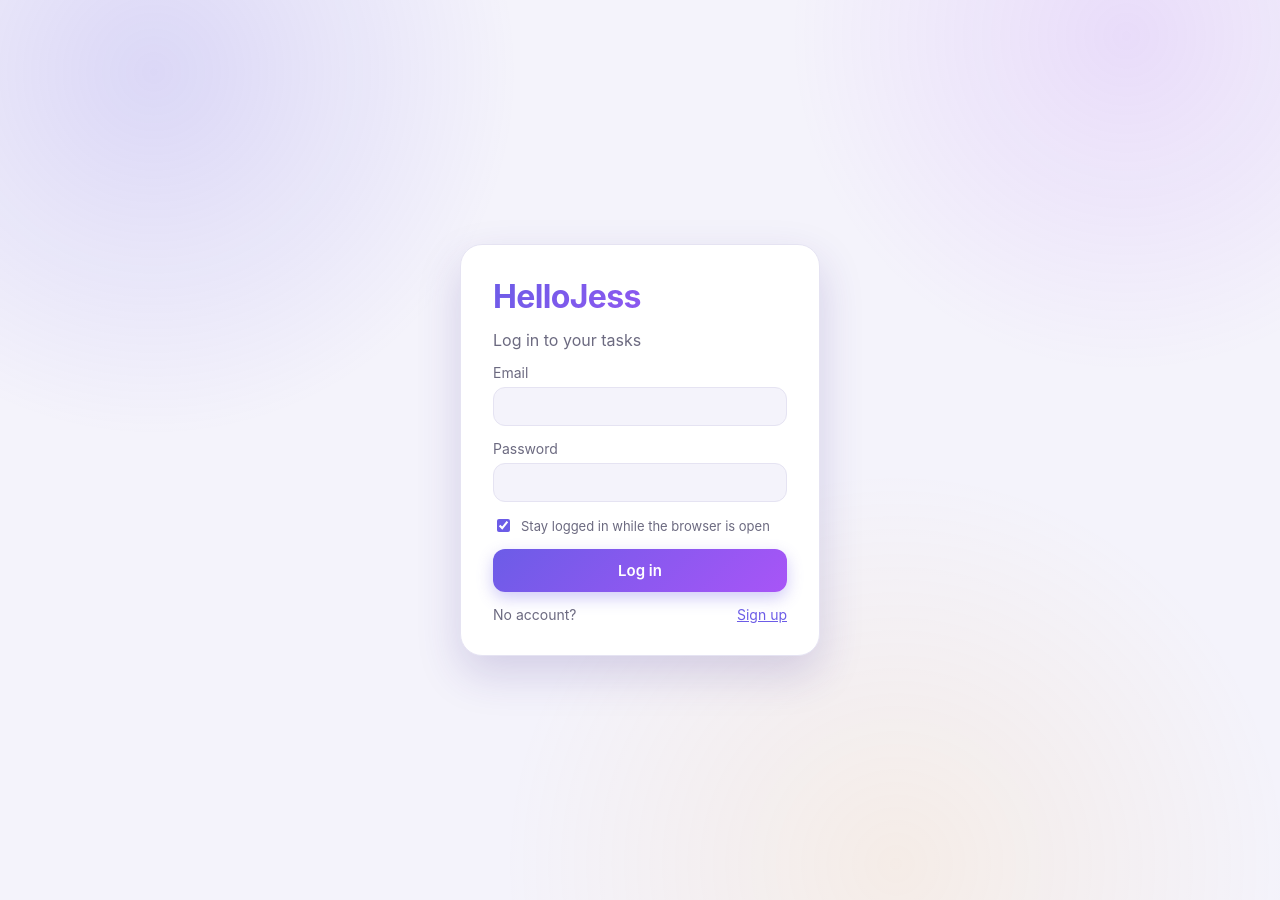
Scenario: Login › only accepts digits and needs all six before the button is enabled
Type "ada@example.com" into the field labelled "Email".
click(640, 406); type("ada@example.com")  # box [493, 387, 787, 426]
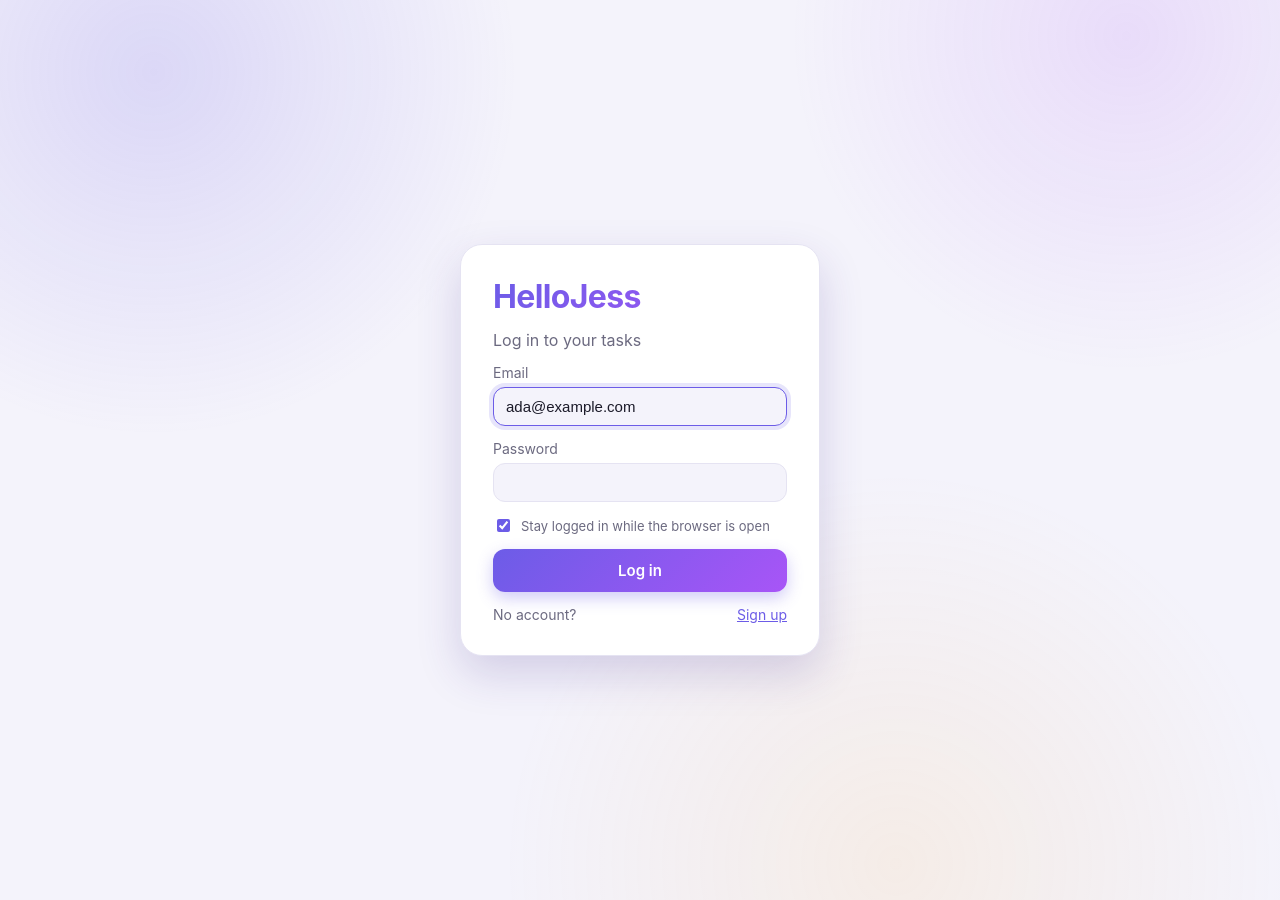
Type "secret-pw" into the password field labelled "Password".
click(640, 482); type("secret-pw")  # box [493, 463, 787, 502]
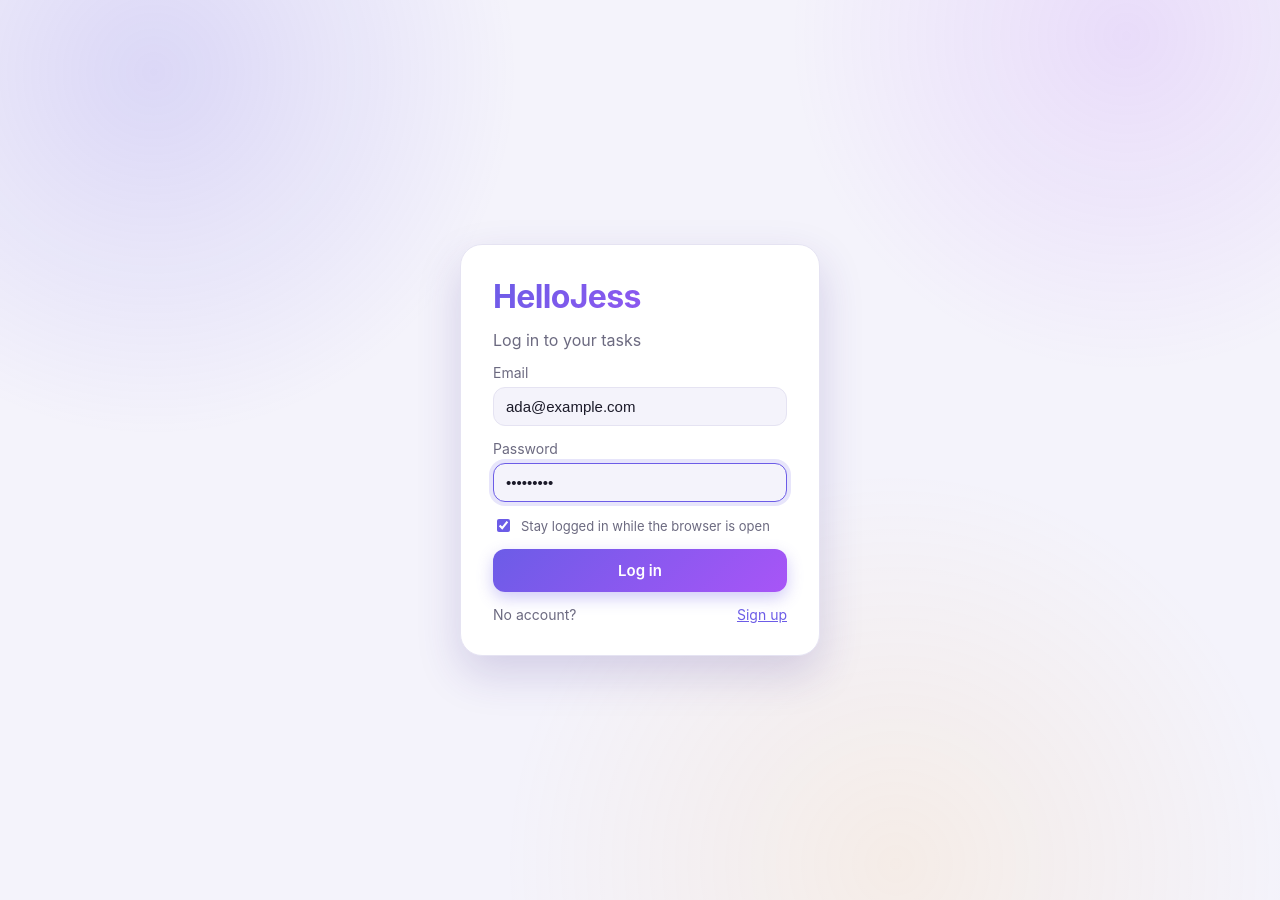
Click the button "Log in".
click(640, 570)  # box [493, 549, 787, 592]
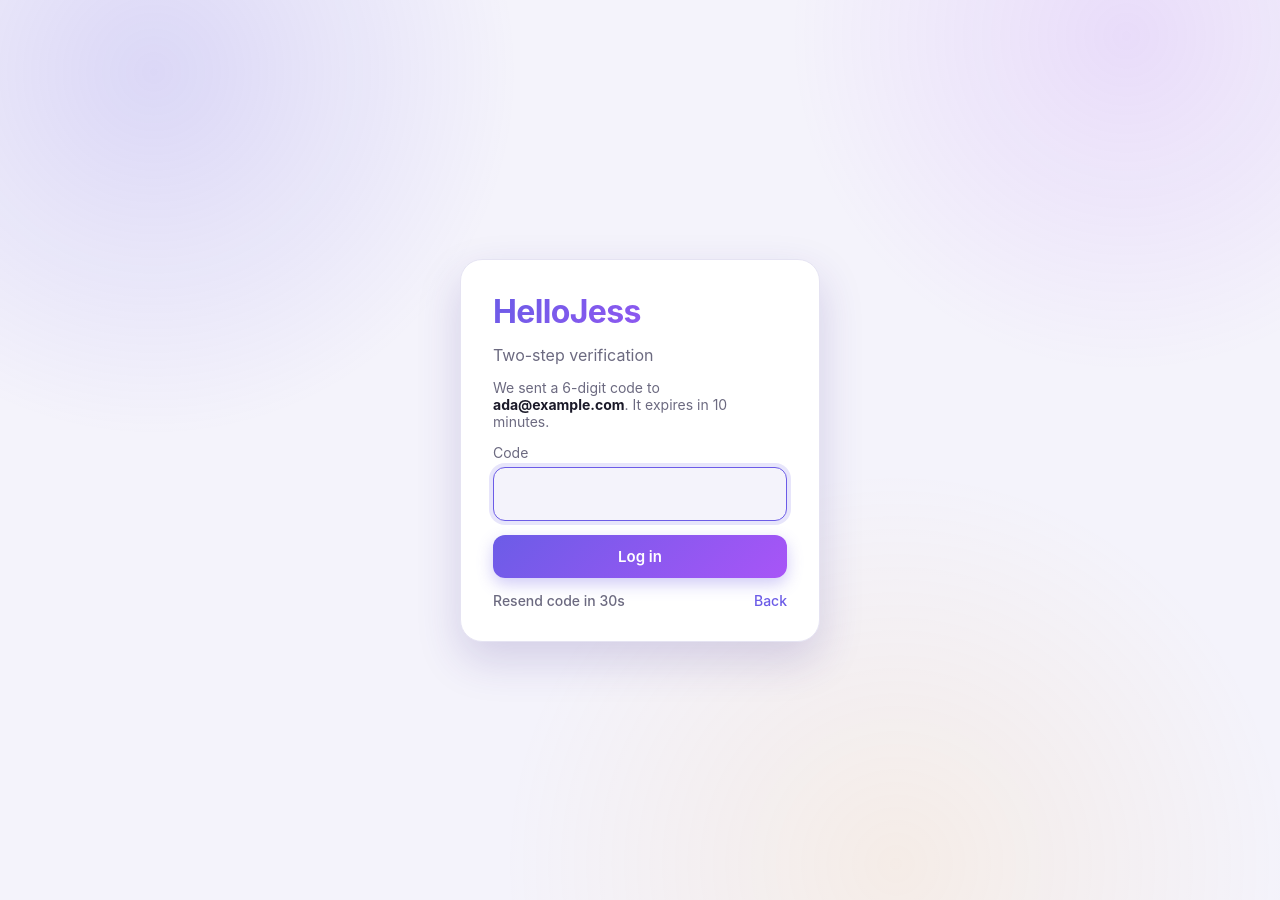
Type "12ab34" into the field labelled "Code".
click(640, 494); type("12ab34")  # box [493, 466, 787, 520]
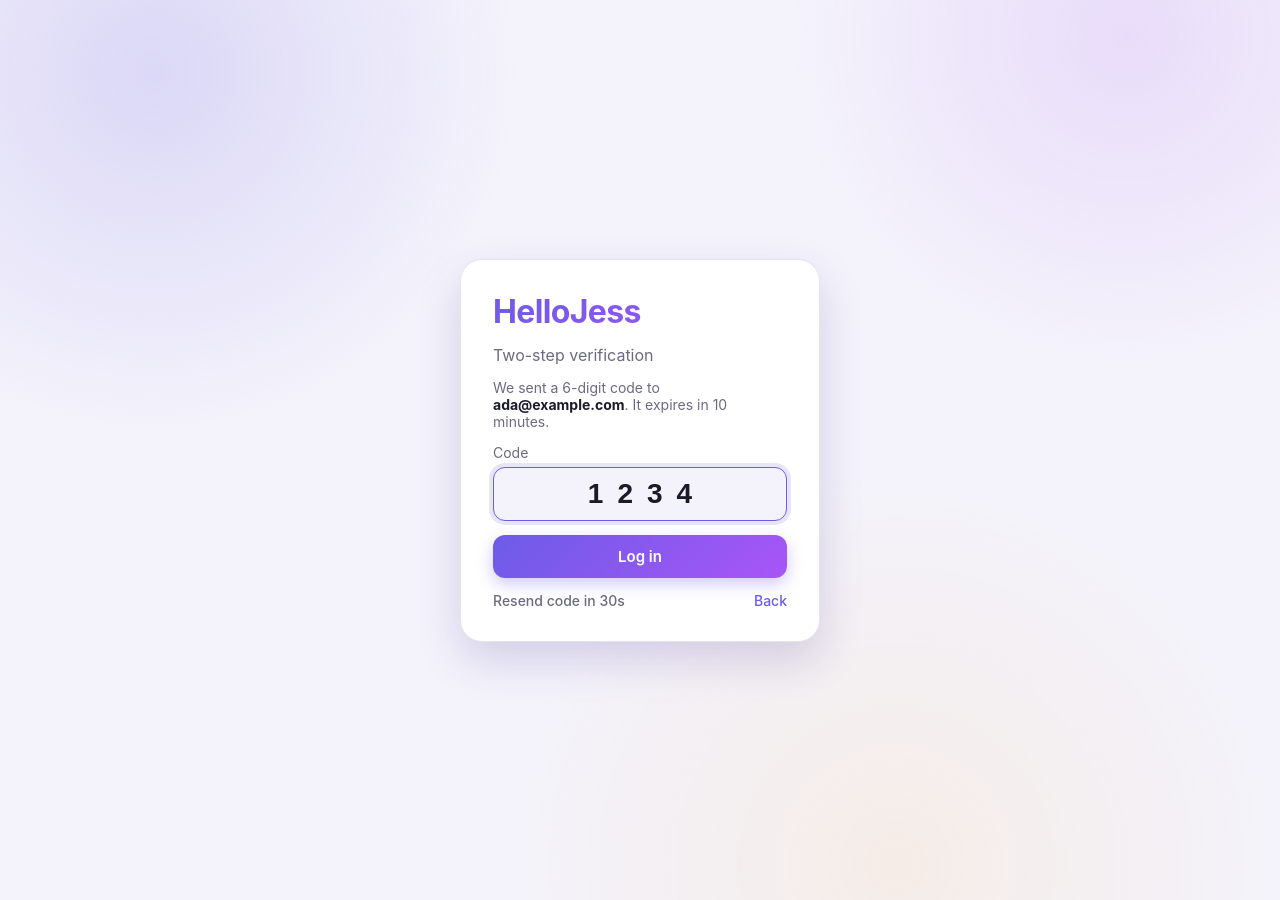
Check: the button "Log in" is disabled, box [493, 534, 787, 578]
Check: the field labelled "Code" holds "1234", box [493, 466, 787, 520]
